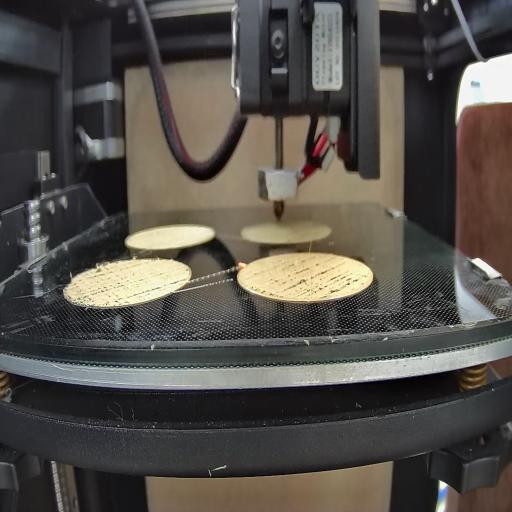under_extrusion: (250, 262, 370, 296), (72, 264, 161, 307), (167, 269, 188, 290)
